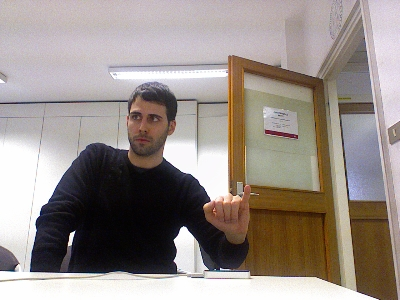小指: (200, 182, 254, 235)
